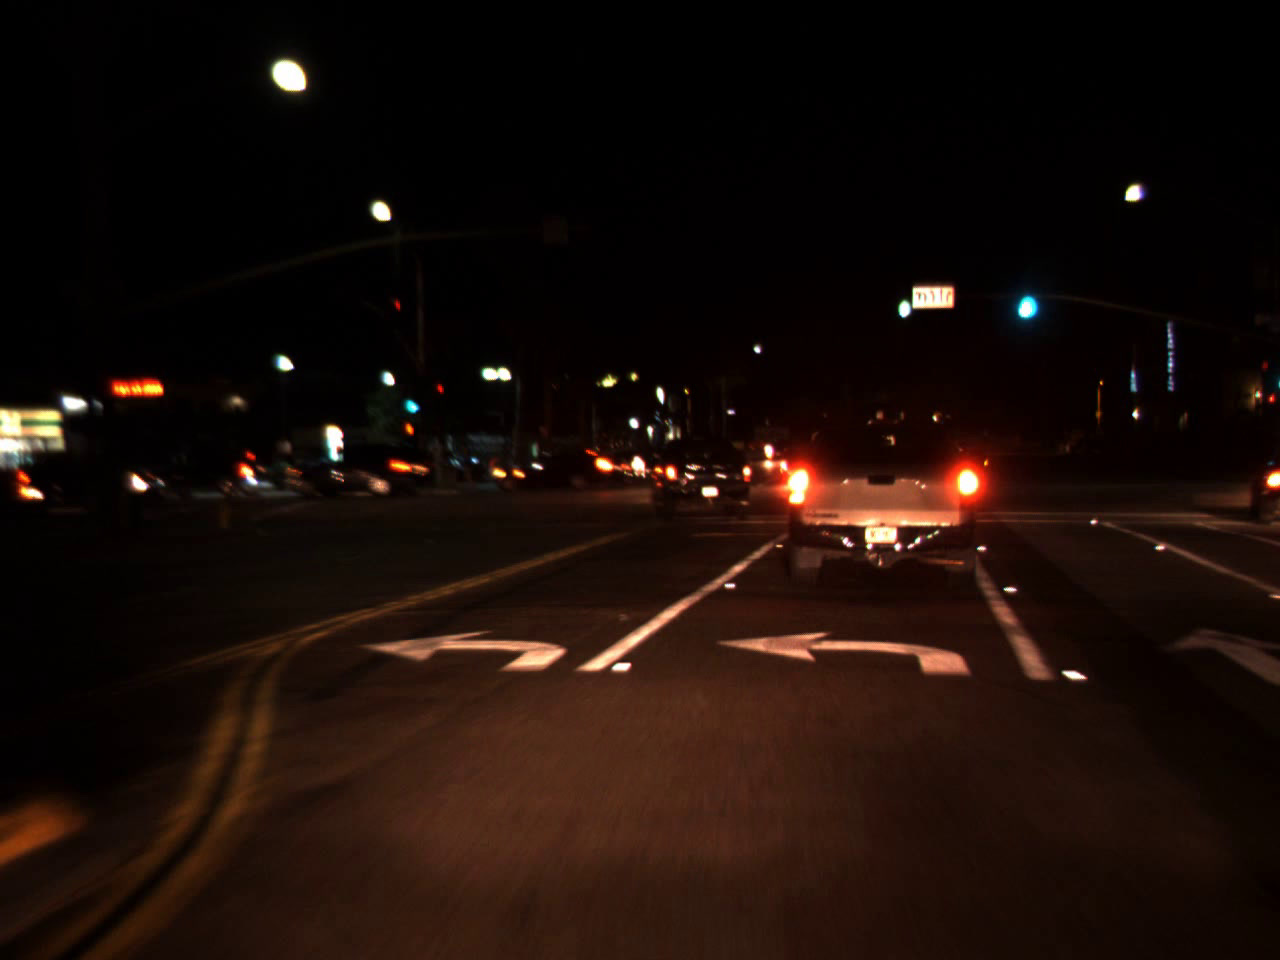go: (1011, 267, 1039, 327), (400, 384, 419, 417), (893, 284, 912, 317)
